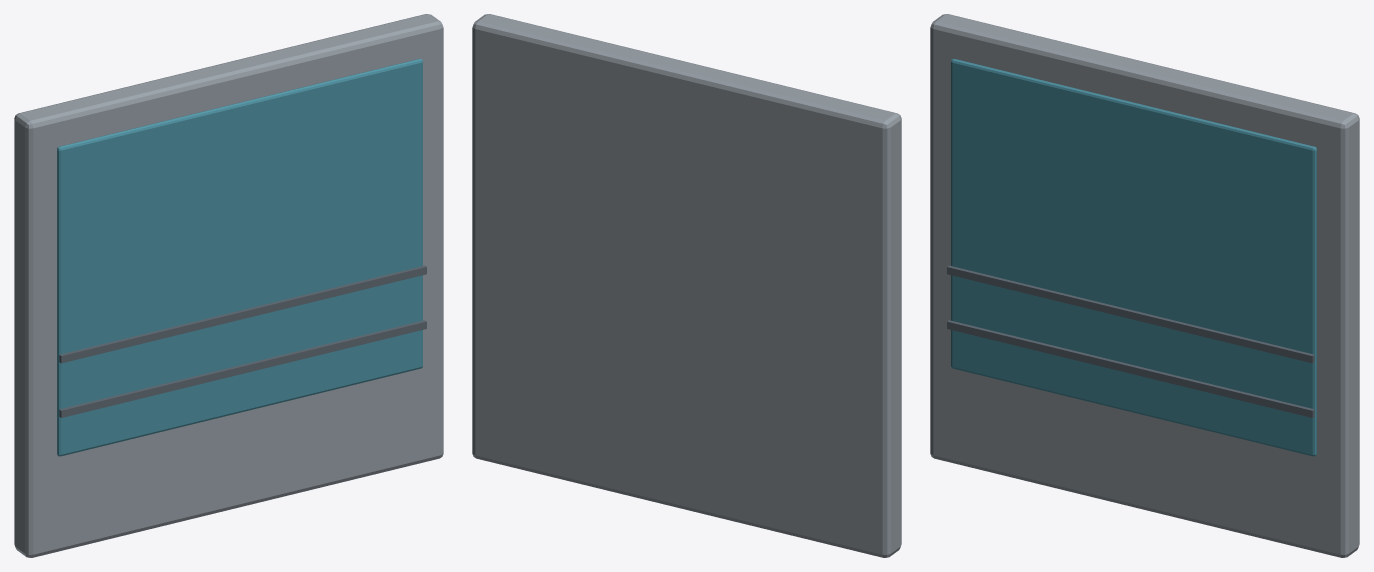
Rendered from 2_Unstable.fbx.
3 views of the same model, side by side, from view 1: azimuth 30°, elevation 25°; view 2: azimuth 150°, elevation 25°; view 3: azimuth 330°, elevation 25° (orthographic).
Parts seen in each view (by area): view 1: Body; view 2: Body; view 3: Body.
Boxes of the visible parts, left/top/right/bottom form: Body: left=14, top=14, right=443, bottom=557; Body: left=472, top=14, right=901, bottom=557; Body: left=930, top=14, right=1359, bottom=557.
Bounding box in the file's own units: 2.4 × 2.4 × 0.23.
